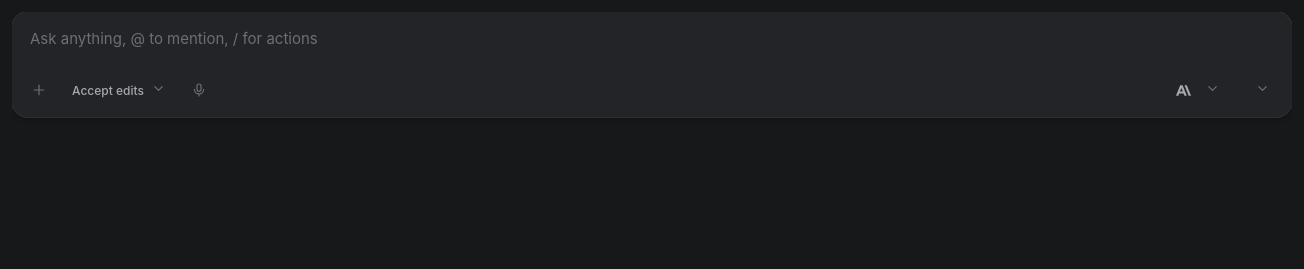
Test case: Composer attachments › preserves edits and attachments added after a pending submit is accepted
The width and height of the screenshot is (1304, 269).
Type "Original draft" into the text box.
click(652, 39); type("Original draft")  # box x1=12 y1=12 x2=1292 y2=66
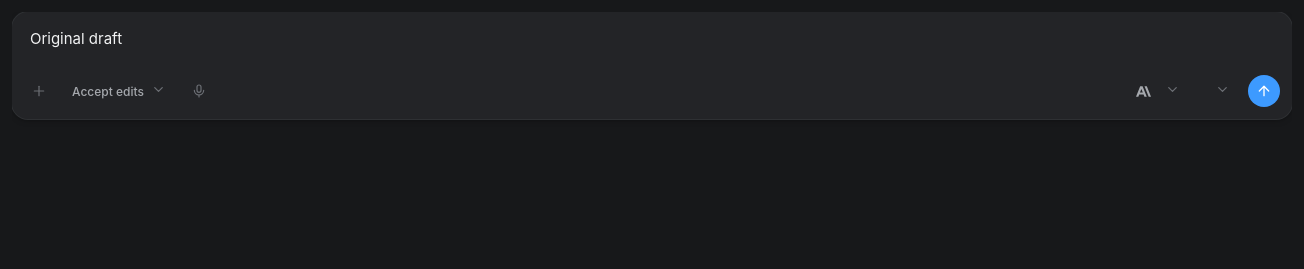
Click the button named "Send".
click(1264, 91)  # box x1=1248 y1=75 x2=1280 y2=107
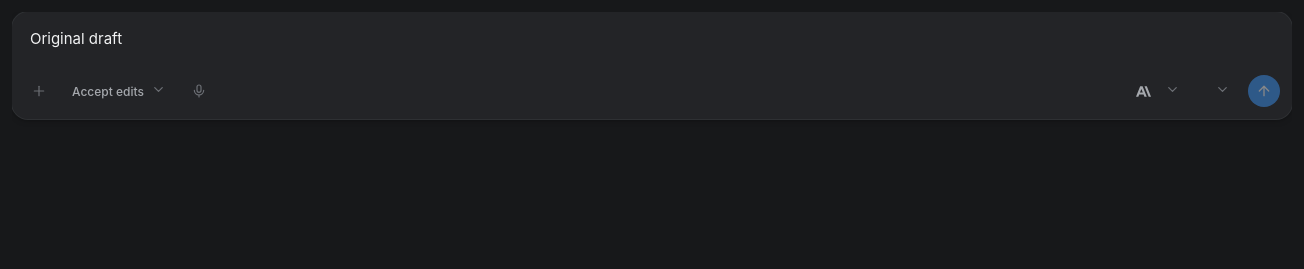
Replace the text in the text box with "Late edit" at (652, 39), box x1=12 y1=12 x2=1292 y2=66
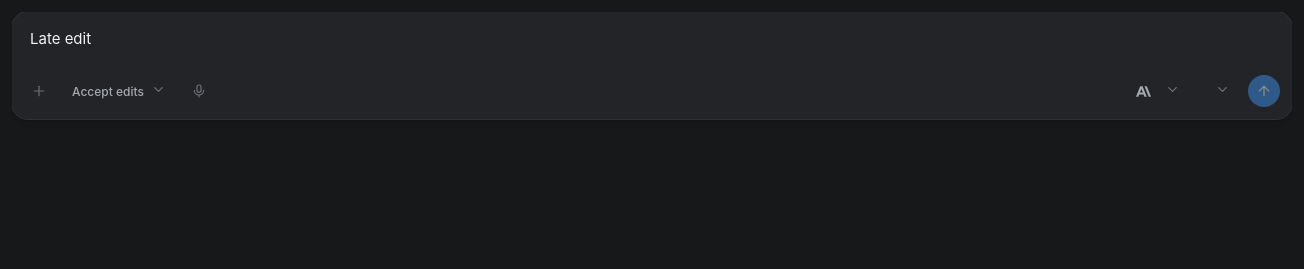
Click the button named "Add context".
click(39, 91)  # box x1=24 y1=76 x2=54 y2=106
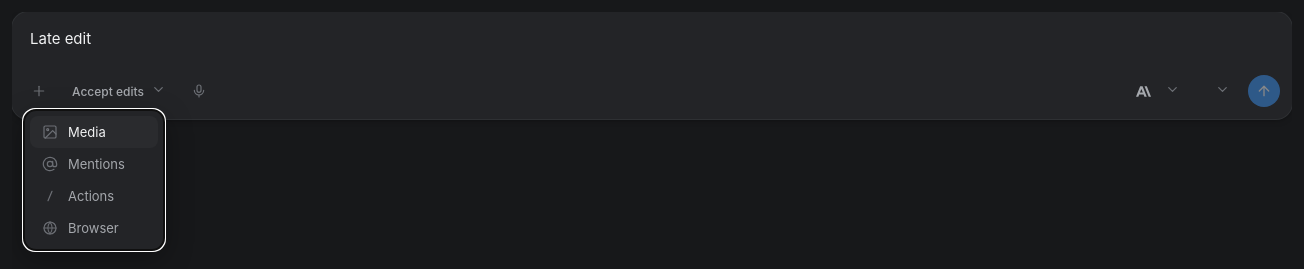
Click the option "Media".
click(94, 132)  # box x1=30 y1=116 x2=158 y2=148
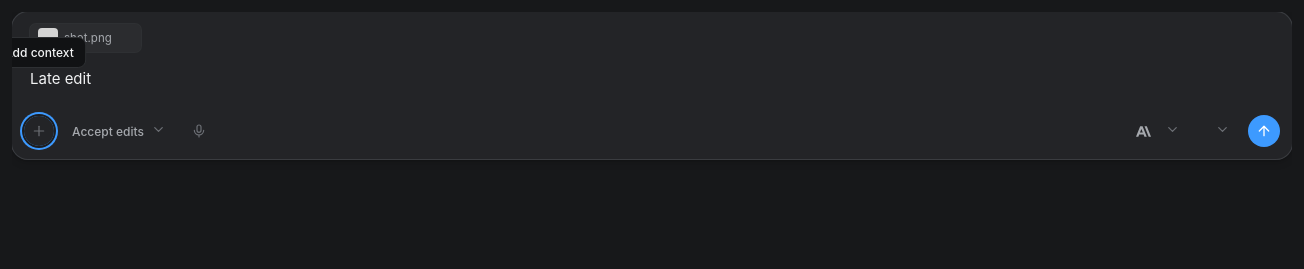
Check: the button named "Send" is enabled, box x1=1248 y1=115 x2=1280 y2=147
Check: the text "shot.png" is shown, box x1=64 y1=31 x2=112 y2=45
